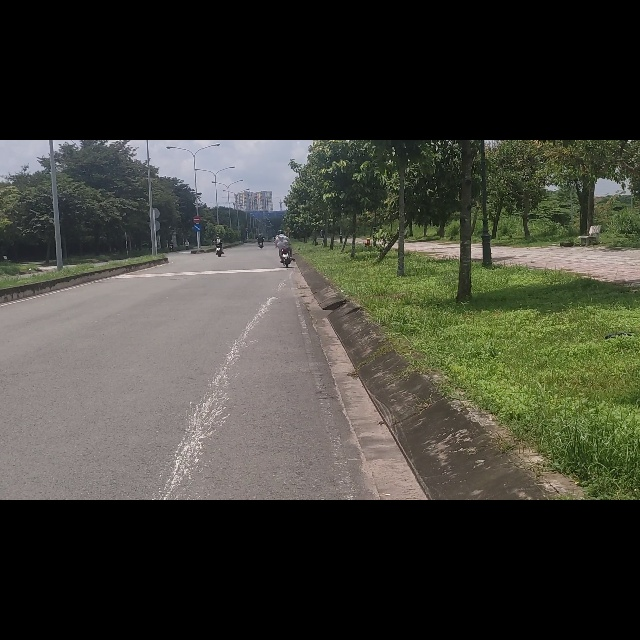bien_hieu_lenh: (193, 149, 201, 163), (193, 135, 201, 148)
